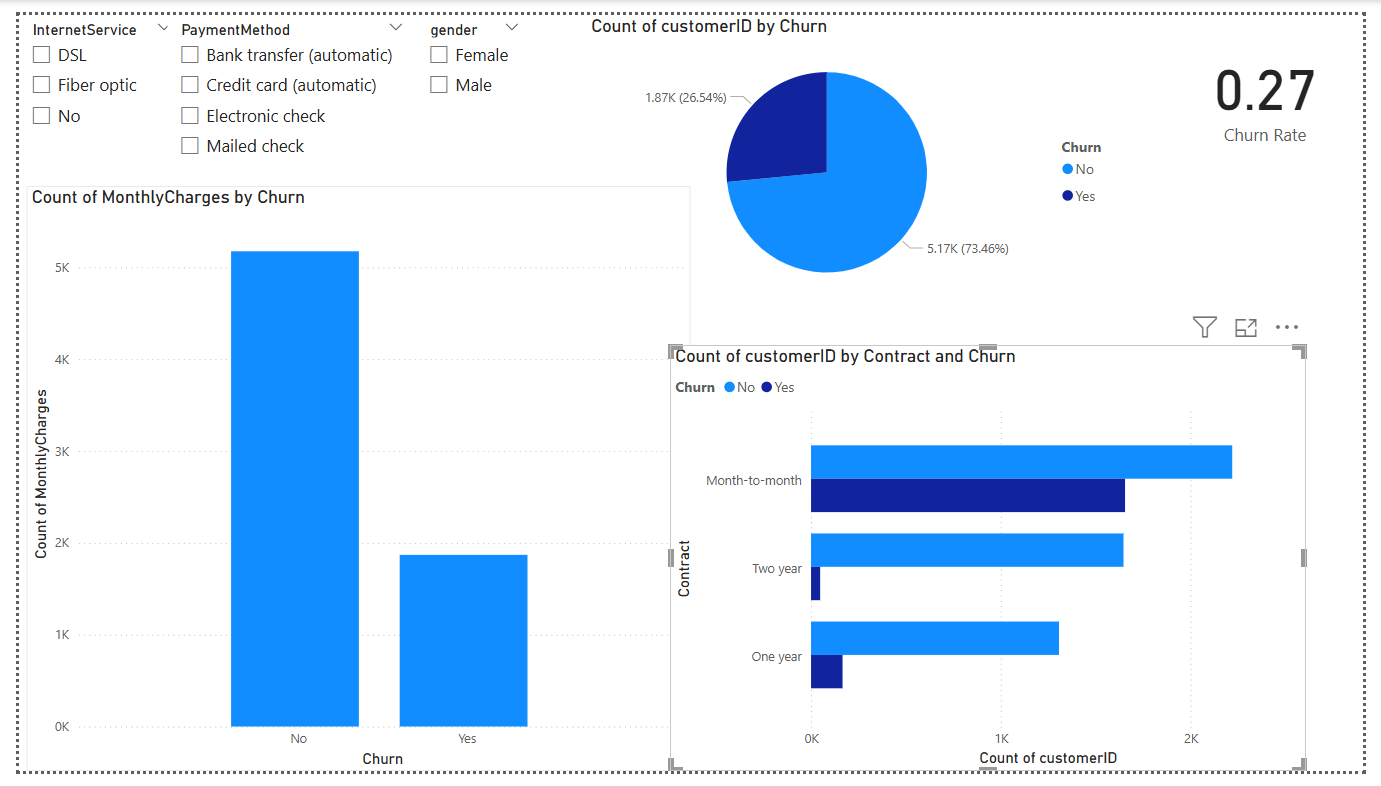

The dashboard page shown, as its layout file describes it:
{"tool":"powerbi","page":{"name":"Page 1","canvas":[1280,720],"ordinal":0},"visuals":[{"type":"pieChart","fields":{"Category":["WA_Fn-UseC_-Telco-Customer-Churn.Churn"],"Y":["CountNonNull(WA_Fn-UseC_-Telco-Customer-Churn.customerID)"]},"box":[540.5,0,515.9,279.7],"z":0},{"type":"clusteredBarChart","fields":{"Category":["WA_Fn-UseC_-Telco-Customer-Churn.Contract"],"Series":["WA_Fn-UseC_-Telco-Customer-Churn.Churn"],"Y":["CountNonNull(WA_Fn-UseC_-Telco-Customer-Churn.customerID)"]},"box":[620,314.3,605.7,405.7],"z":1000},{"type":"columnChart","fields":{"Category":["WA_Fn-UseC_-Telco-Customer-Churn.Churn"],"Y":["CountNonNull(WA_Fn-UseC_-Telco-Customer-Churn.MonthlyCharges)"]},"box":[7.6,162.5,633.1,557.5],"z":2000},{"type":"slicer","fields":{"Values":["WA_Fn-UseC_-Telco-Customer-Churn.InternetService"]},"box":[0,0,156.9,126.6],"z":3000},{"type":"slicer","fields":{"Values":["WA_Fn-UseC_-Telco-Customer-Churn.PaymentMethod"]},"box":[141.7,0,236.2,149.3],"z":4000},{"type":"slicer","fields":{"Values":["WA_Fn-UseC_-Telco-Customer-Churn.gender"]},"box":[378,0,109.6,88.8],"z":5000},{"type":"card","fields":{"Values":["WA_Fn-UseC_-Telco-Customer-Churn.Churn Rate"]},"box":[1092.3,0,187.1,149.3],"z":6000},{"type":"qnaVisual","box":[1262.4,198.4,17,13.2],"z":7000}]}

Visuals, with their boxes in screenshot pixels (x1, y1, x2, y2), scaled from the page's 1280x720 canvas onto the 1381x786 screenshot:
pieChart - WA_Fn-UseC_-Telco-Customer-Churn.Churn x CountNonNull(WA_Fn-UseC_-Telco-Customer-Churn.customerID): detection(583, 0, 1140, 305)
clusteredBarChart - WA_Fn-UseC_-Telco-Customer-Churn.Contract x WA_Fn-UseC_-Telco-Customer-Churn.Churn: detection(669, 343, 1322, 785)
columnChart - WA_Fn-UseC_-Telco-Customer-Churn.Churn x CountNonNull(WA_Fn-UseC_-Telco-Customer-Churn.MonthlyCharges): detection(8, 177, 691, 785)
slicer - WA_Fn-UseC_-Telco-Customer-Churn.InternetService: detection(0, 0, 169, 138)
slicer - WA_Fn-UseC_-Telco-Customer-Churn.PaymentMethod: detection(153, 0, 408, 163)
slicer - WA_Fn-UseC_-Telco-Customer-Churn.gender: detection(408, 0, 526, 97)
card - WA_Fn-UseC_-Telco-Customer-Churn.Churn Rate: detection(1178, 0, 1380, 163)
qnaVisual: detection(1362, 217, 1380, 231)
